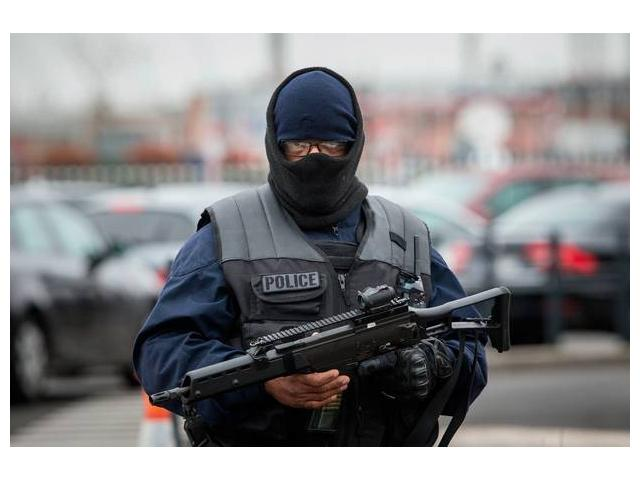rifle: (144, 280, 511, 440)
